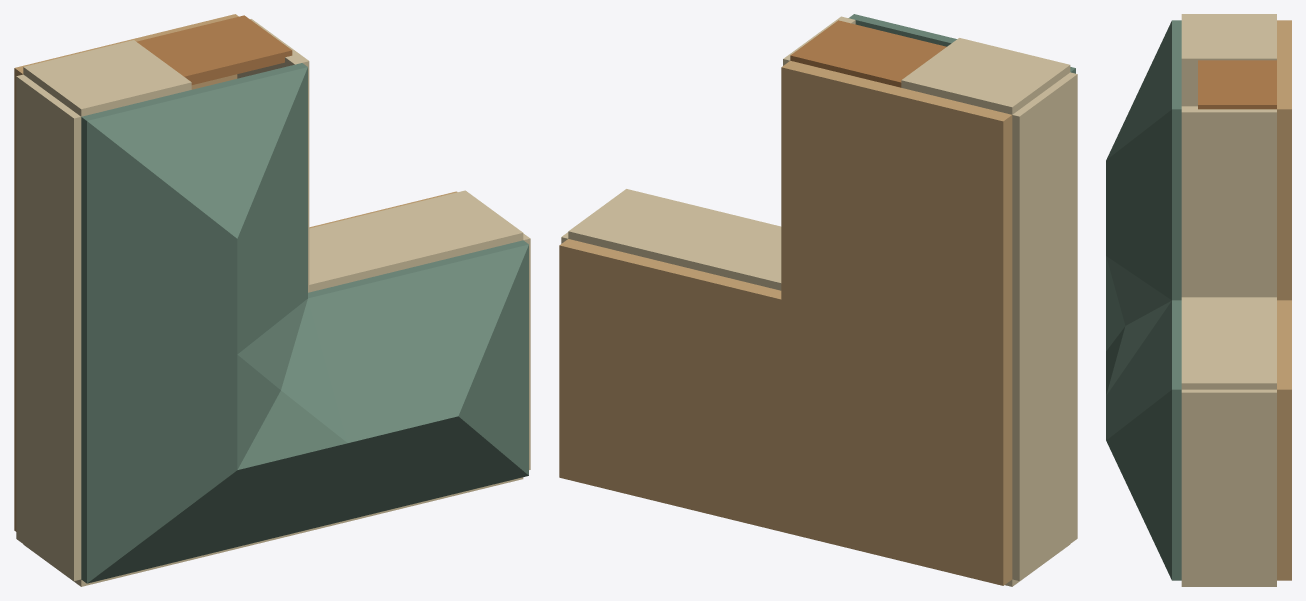
File: forest-corner.obj
3 views of the same model, side by side, from view 1: azimuth 30°, elevation 25°; view 2: azimuth 150°, elevation 25°; view 3: azimuth 270°, elevation 25° (orthographic). The views are drawn at different scales.
Parts seen in each view (by area): view 1: roof_tile0-3, roof_tile0-2, roof_tile0-1, roof_tile2-1, roof_tile0-0, roof_tile1-3, roof_tile3-1, roof_tile1-1, roof_tile2-0, roof_tile1-0, roof_tile3-0, roof_tile1-2 (+10 smaller); view 2: foundation_tile0-3, foundation_tile0-0, foundation_tile0-1, foundation_tile0-2, foundation_tile3-1, foundation_tile1-3, foundation_tile2-1, foundation_tile3-0, foundation_tile1-1, foundation_tile1-2, foundation_tile2-0, foundation_tile1-0 (+9 smaller); view 3: walls_edge14, walls_edge8, walls_edge5, walls_edge11, roof_tile1-2, roof_tile1-3, roof_tile3-1, walls_edge9, roof_tile1-1, walls_edge12, roof_tile3-0, walls_edge7 (+11 smaller).
Part boxes in pixels (x1,y1,x2,y2): roof_tile0-3: [81, 90, 237, 238]; roof_tile0-2: [81, 233, 237, 354]; roof_tile0-1: [81, 348, 237, 470]; roof_tile2-1: [308, 267, 458, 442]; roof_tile0-0: [81, 464, 236, 583]; roof_tile1-3: [192, 63, 307, 238]; roof_tile3-1: [413, 240, 528, 415]; roof_tile1-1: [237, 299, 347, 469]; roof_tile2-0: [308, 416, 458, 529]; roof_tile1-0: [197, 443, 347, 556]; roof_tile3-0: [419, 360, 528, 502]; roof_tile1-2: [237, 183, 307, 354]; foundation_tile0-3: [892, 88, 1012, 237]; foundation_tile0-0: [892, 443, 1012, 585]; foundation_tile0-1: [892, 326, 1012, 469]; foundation_tile0-2: [892, 210, 1012, 353]; foundation_tile3-1: [559, 239, 678, 388]; foundation_tile1-3: [781, 61, 900, 210]; foundation_tile2-1: [670, 266, 781, 415]; foundation_tile3-0: [559, 361, 670, 504]; foundation_tile1-1: [781, 299, 892, 442]; foundation_tile1-2: [781, 183, 892, 326]; foundation_tile2-0: [670, 388, 781, 531]; foundation_tile1-0: [781, 415, 892, 558]; walls_edge14: [1181, 106, 1276, 207]; walls_edge8: [1181, 389, 1276, 487]; walls_edge5: [1181, 488, 1276, 583]; walls_edge11: [1181, 207, 1276, 297]; roof_tile1-2: [1106, 160, 1181, 300]; roof_tile1-3: [1106, 64, 1181, 204]; roof_tile3-1: [1106, 345, 1181, 485]; walls_edge9: [1181, 339, 1276, 389]; roof_tile1-1: [1106, 256, 1171, 395]; walls_edge12: [1181, 14, 1276, 70]; roof_tile3-0: [1106, 441, 1181, 580]; walls_edge7: [1181, 297, 1276, 338].
Size of the model in its own units: 4.13 by 4.13 by 1.76.
